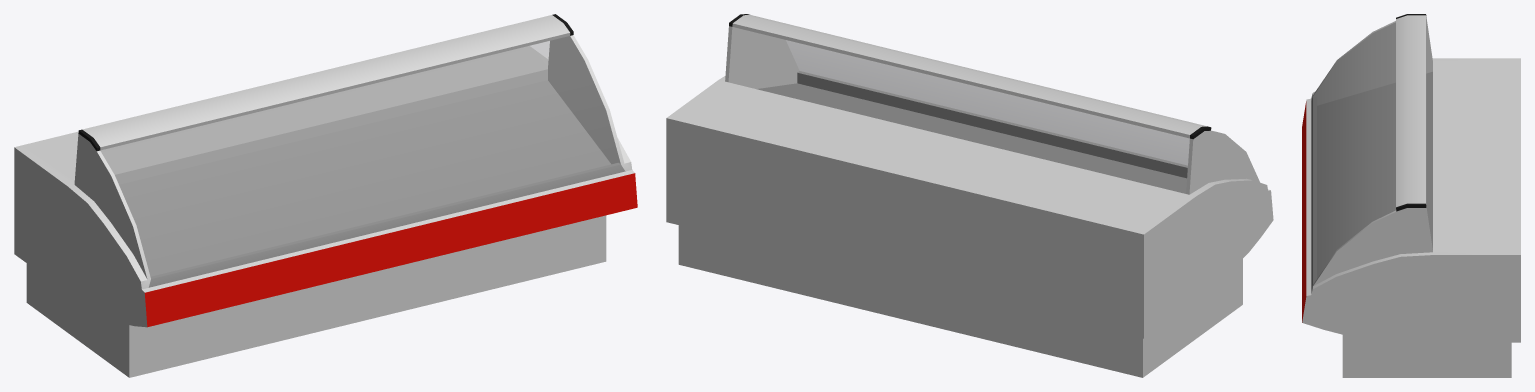
Rendered from ray_store_beef_001.FBX.
The picture shows the model from 3 angles, left to right: view 1: azimuth 30°, elevation 25°; view 2: azimuth 150°, elevation 25°; view 3: azimuth 270°, elevation 25°; orthographic projection. The views are drawn at different scales.
Parts seen in each view (by area): view 1: ray_store_beef_001; view 2: ray_store_beef_001; view 3: ray_store_beef_001.
Part boxes in pixels (<box>): ray_store_beef_001: <box>14,14,637,377</box>; ray_store_beef_001: <box>666,14,1273,377</box>; ray_store_beef_001: <box>1302,14,1520,377</box>.
Size of the model in its own units: 3.48 by 1.43 by 1.64.
